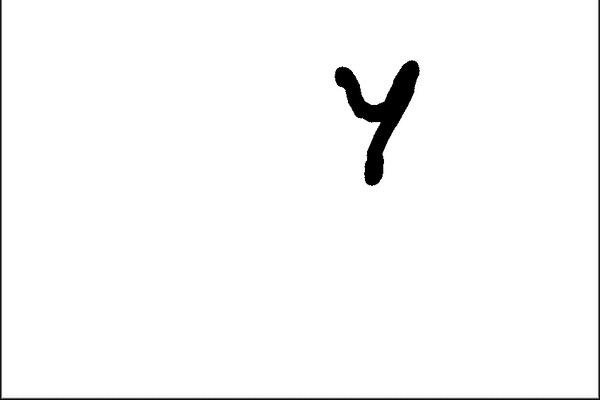Y: (328, 55, 430, 193)
